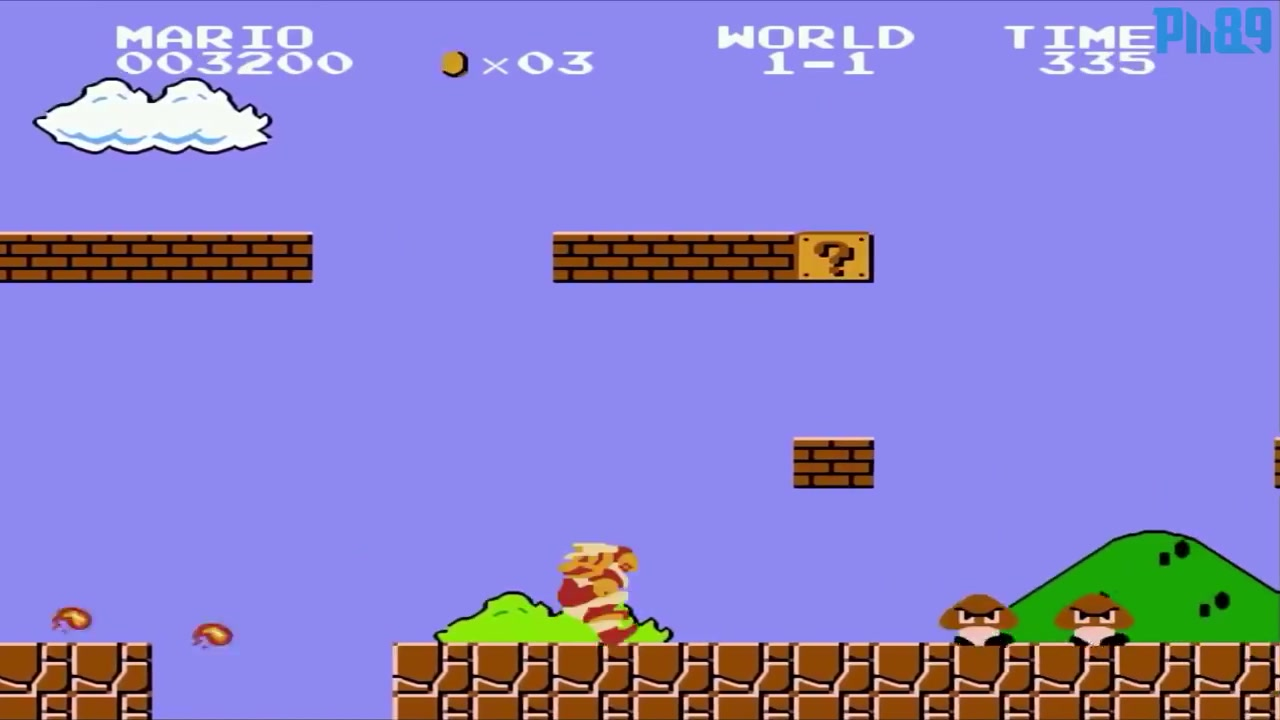mario: (543, 535, 651, 647)
